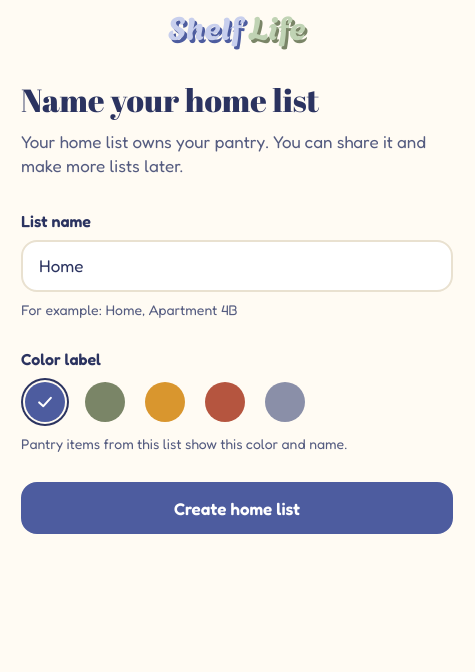
it: OnboardingPage (home list setup) › shows a plain-language error when creating fails
The width and height of the screenshot is (475, 672).
What coordinates should you click on to do the following:
click the button "Create home list"
I would click on:
 (237, 508)
Its box is top-left (21, 482), bottom-right (453, 534).
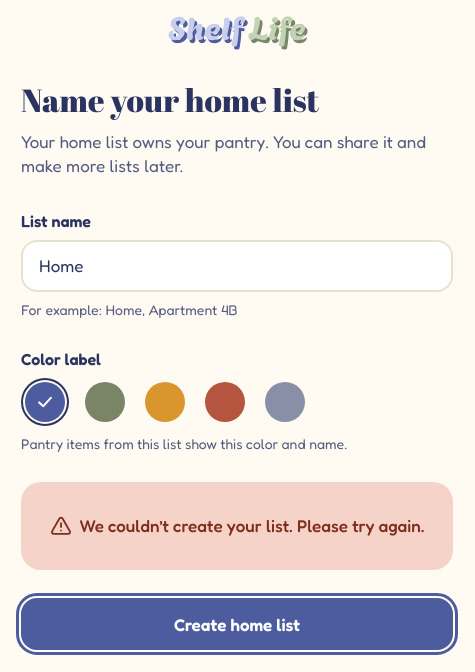
Expected: the button "Create home list" is enabled, top-left (21, 598), bottom-right (453, 650)
Expected: the message shows "We couldn’t create your list", top-left (80, 515), bottom-right (424, 536)
